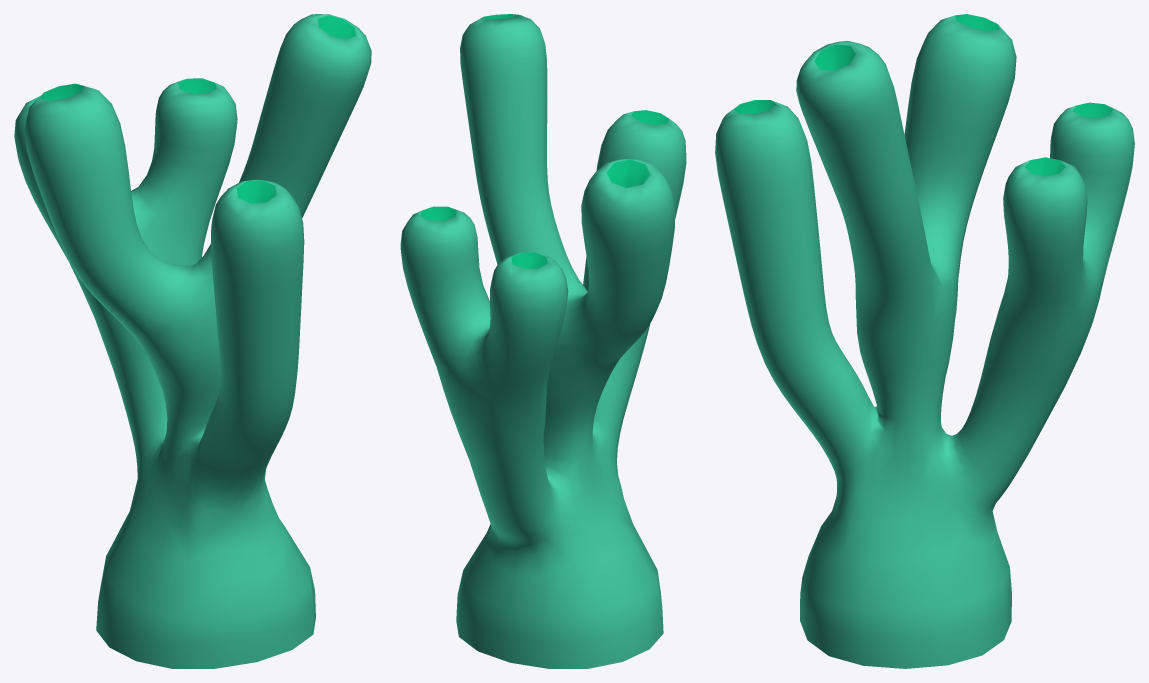
Rendered from seaweed1.fbx.
The picture shows the model from 3 angles, left to right: view 1: azimuth 30°, elevation 25°; view 2: azimuth 150°, elevation 25°; view 3: azimuth 270°, elevation 25°; orthographic projection. The views are drawn at different scales.
Visible parts, largest first — view 1: coral1; view 2: coral1; view 3: coral1.
Part boxes in pixels (<box>): coral1: <box>14,14,371,668</box>; coral1: <box>400,14,686,668</box>; coral1: <box>715,14,1134,668</box>.
Size of the model in its own units: 2.01 by 2.6 by 4.22.
